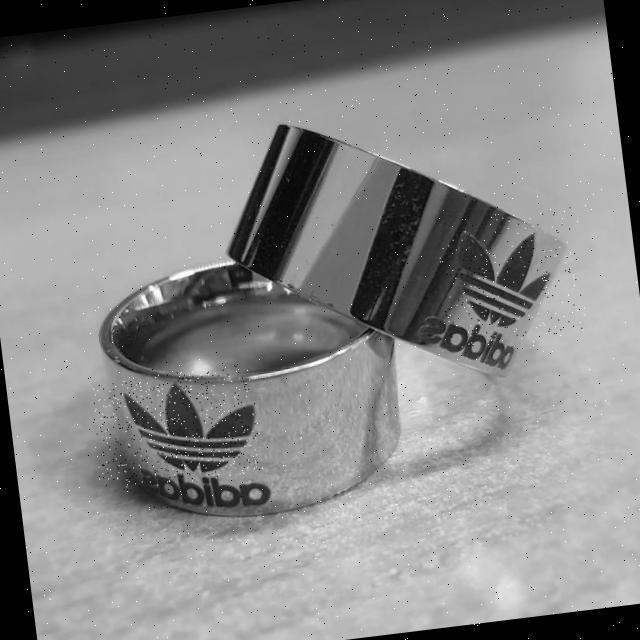Adidas: (87, 363, 264, 492), (435, 205, 588, 349)
